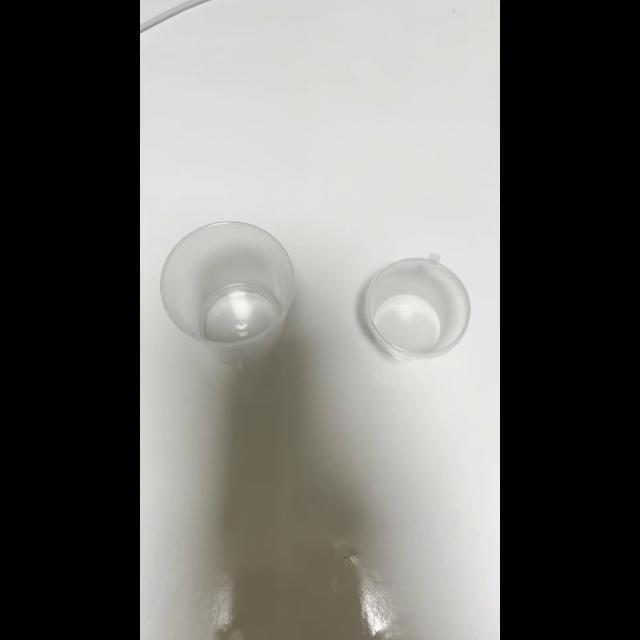clean: (157, 222, 306, 382), (364, 249, 474, 363)
